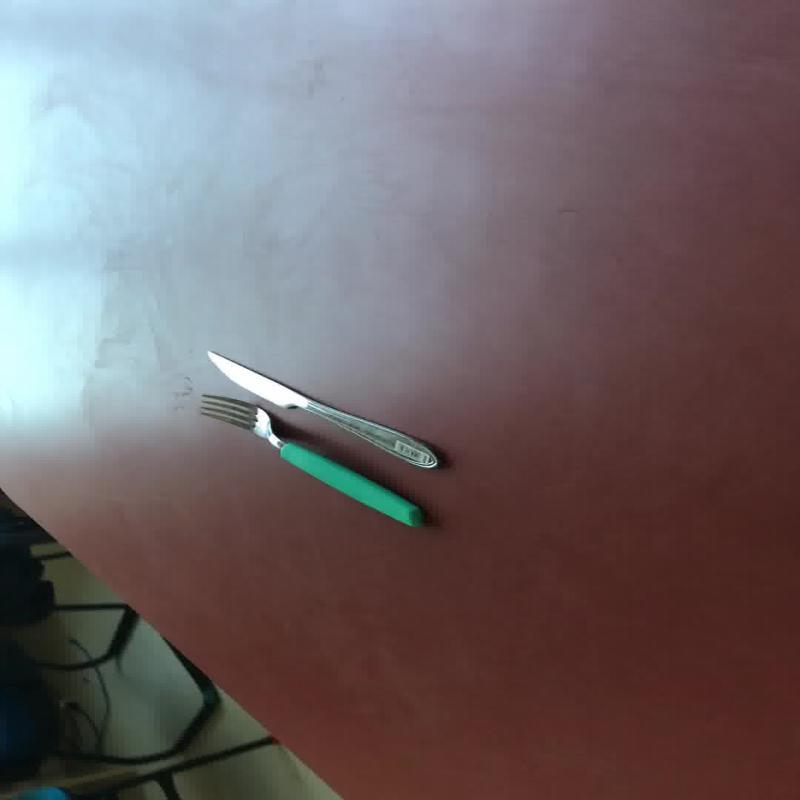fork: (195, 391, 426, 528)
knife: (202, 349, 439, 469)
